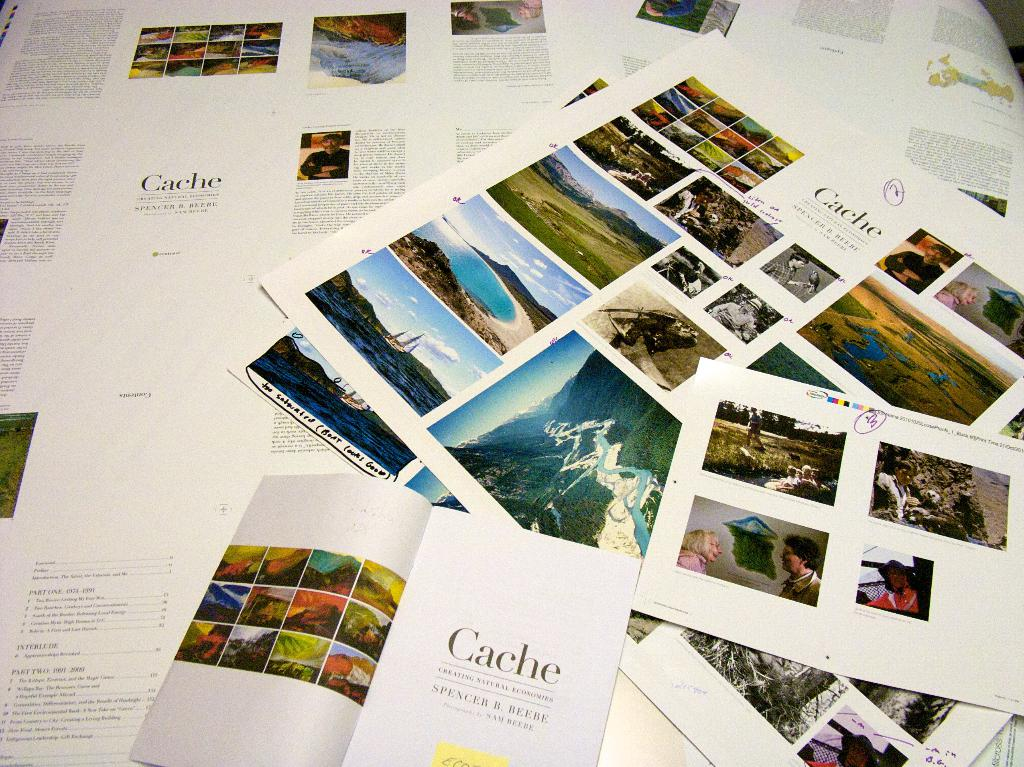person: (776, 533, 823, 605)
